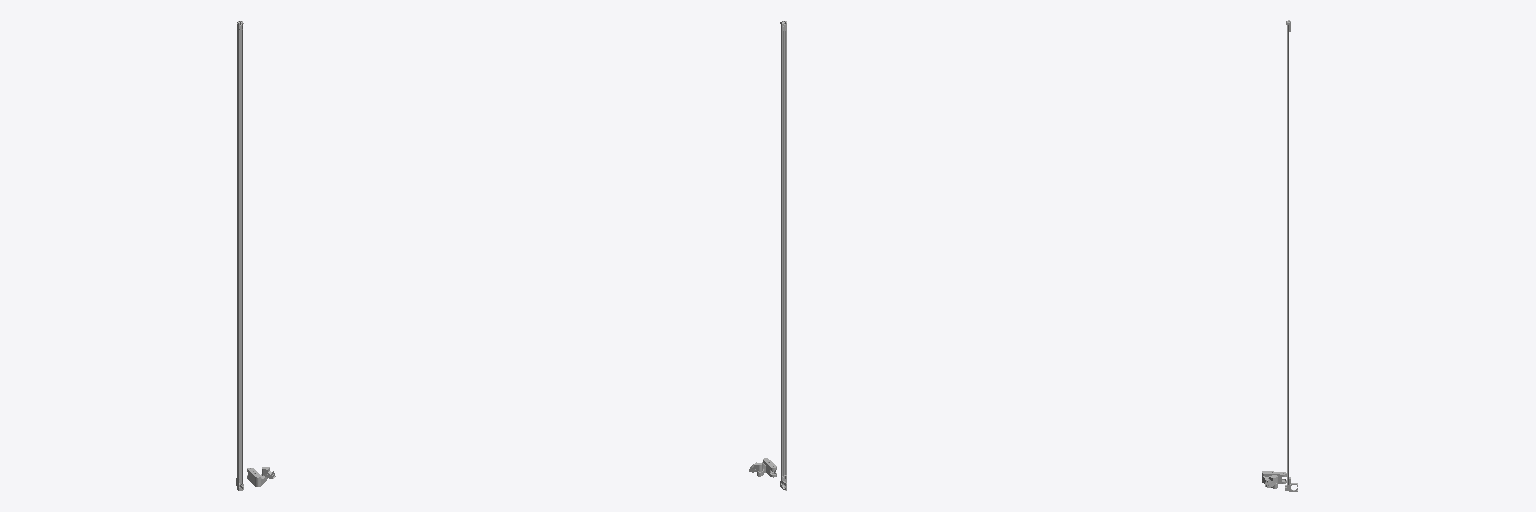
The robot description file, URDF, robot "ppr_urdf":
<?xml version="1.0" encoding="utf-8"?>
<!-- This URDF was automatically created by SolidWorks to URDF Exporter! Originally created by Stephen Brawner ([email redacted]) 
     Commit Version: 1.6.0-4-g7f85cfe  Build Version: 1.6.7995.38578
     For more information, please see http://wiki.ros.org/sw_urdf_exporter -->
<robot
  name="ppr_urdf">
  <link
    name="Fixed_Vertical_Rail">
    <inertial>
      <origin
        xyz="-0.0653652039224434 0.0346487927069754 1.58293633496328"
        rpy="0 0 0" />
      <mass
        value="1.36134490661131" />
      <inertia
        ixx="1.23113349395946"
        ixy="-3.02582471930478E-05"
        ixz="-1.60411948067779E-06"
        iyy="1.2311924579006"
        iyz="-2.04129879693702E-05"
        izz="0.00039546600300364" />
    </inertial>
    <visual>
      <origin
        xyz="0 0 0"
        rpy="0 0 0" />
      <geometry>
        <mesh
          filename="package://ppr_urdf/meshes/Fixed_Vertical_Rail.STL" />
      </geometry>
      <material
        name="">
        <color
          rgba="0.752941176470588 0.752941176470588 0.752941176470588 1" />
      </material>
    </visual>
    <collision>
      <origin
        xyz="0 0 0"
        rpy="0 0 0" />
      <geometry>
        <mesh
          filename="package://ppr_urdf/meshes/Fixed_Vertical_Rail.STL" />
      </geometry>
    </collision>
  </link>
  <link
    name="Arm_Base">
    <inertial>
      <origin
        xyz="-0.0723232974183641 -0.108852791163646 0.110380253511977"
        rpy="0 0 0" />
      <mass
        value="2.55348579407201" />
      <inertia
        ixx="0.00340893503817532"
        ixy="0.000118939658549301"
        ixz="-9.91618542470022E-06"
        iyy="0.00456708278833863"
        iyz="-1.31342859741288E-05"
        izz="0.00190057696475435" />
    </inertial>
    <visual>
      <origin
        xyz="0 0 0"
        rpy="0 0 0" />
      <geometry>
        <mesh
          filename="package://ppr_urdf/meshes/Arm_Base.STL" />
      </geometry>
      <material
        name="">
        <color
          rgba="0.752941176470588 0.752941176470588 0.752941176470588 1" />
      </material>
    </visual>
    <collision>
      <origin
        xyz="0 0 0"
        rpy="0 0 0" />
      <geometry>
        <mesh
          filename="package://ppr_urdf/meshes/Arm_Base.STL" />
      </geometry>
    </collision>
  </link>
  <joint
    name="Motor_1"
    type="prismatic">
    <origin
      xyz="-0.00599999999999973 0.103500000000001 0"
      rpy="0 0 0" />
    <parent
      link="Fixed_Vertical_Rail" />
    <child
      link="Arm_Base" />
    <axis
      xyz="0 0 1" />
    <limit
      lower="0"
      upper="3.251"
      effort="0"
      velocity="0" />
  </joint>
  <link
    name="First_Link">
    <inertial>
      <origin
        xyz="-0.00830989255160941 -0.0612529073186812 0.0412894159868319"
        rpy="0 0 0" />
      <mass
        value="0.39754180447117" />
      <inertia
        ixx="0.0010676169811411"
        ixy="-0.000125735491727204"
        ixz="5.13685153266351E-06"
        iyy="0.000182921549481065"
        iyz="6.27301860431454E-05"
        izz="0.00113842663671868" />
    </inertial>
    <visual>
      <origin
        xyz="0 0 0"
        rpy="0 0 0" />
      <geometry>
        <mesh
          filename="package://ppr_urdf/meshes/First_Link.STL" />
      </geometry>
      <material
        name="">
        <color
          rgba="0.752941176470588 0.752941176470588 0.752941176470588 1" />
      </material>
    </visual>
    <collision>
      <origin
        xyz="0 0 0"
        rpy="0 0 0" />
      <geometry>
        <mesh
          filename="package://ppr_urdf/meshes/First_Link.STL" />
      </geometry>
    </collision>
  </link>
  <joint
    name="Motor_2"
    type="revolute">
    <origin
      xyz="0.00599999999999971 -0.103500000000001 0.0590000000000115"
      rpy="0 0 0" />
    <parent
      link="Arm_Base" />
    <child
      link="First_Link" />
    <axis
      xyz="0 0 1" />
    <limit
      lower="0"
      upper="3.0986"
      effort="0"
      velocity="0" />
  </joint>
  <link
    name="Second_Link">
    <inertial>
      <origin
        xyz="0.036113 0.027642 0.027283"
        rpy="0 0 0" />
      <mass
        value="0.60727" />
      <inertia
        ixx="0.00034204"
        ixy="-0.00026976"
        ixz="1.8061E-05"
        iyy="0.00046144"
        iyz="1.1693E-05"
        izz="0.000744" />
    </inertial>
    <visual>
      <origin
        xyz="0 0 0"
        rpy="0 0 0" />
      <geometry>
        <mesh
          filename="package://ppr_urdf/meshes/Second_Link.STL" />
      </geometry>
      <material
        name="">
        <color
          rgba="0.75294 0.75294 0.75294 1" />
      </material>
    </visual>
    <collision>
      <origin
        xyz="0 0 0"
        rpy="0 0 0" />
      <geometry>
        <mesh
          filename="package://ppr_urdf/meshes/Second_Link.STL" />
      </geometry>
    </collision>
  </link>
  <joint
    name="Motor_3"
    type="revolute">
    <origin
      xyz="-0.015509 -0.13612 0"
      rpy="0 0 0" />
    <parent
      link="First_Link" />
    <child
      link="Second_Link" />
    <axis
      xyz="0 0 1" />
    <limit
      lower="-2.3562"
      upper="0"
      effort="0"
      velocity="0" />
  </joint>
  <link
    name="Gripper">
    <inertial>
      <origin
        xyz="0.014864 -0.019392 0.051985"
        rpy="0 0 0" />
      <mass
        value="0.072883" />
      <inertia
        ixx="5.611E-05"
        ixy="1.8401E-05"
        ixz="6.0106E-06"
        iyy="4.6306E-05"
        iyz="-7.8438E-06"
        izz="6.9227E-05" />
    </inertial>
    <visual>
      <origin
        xyz="0 0 0"
        rpy="0 0 0" />
      <geometry>
        <mesh
          filename="package://ppr_urdf/meshes/Gripper.STL" />
      </geometry>
      <material
        name="">
        <color
          rgba="0.75294 0.75294 0.75294 1" />
      </material>
    </visual>
    <collision>
      <origin
        xyz="0 0 0"
        rpy="0 0 0" />
      <geometry>
        <mesh
          filename="package://ppr_urdf/meshes/Gripper.STL" />
      </geometry>
    </collision>
  </link>
  <joint
    name="Motor_4"
    type="revolute">
    <origin
      xyz="0.095996 0.07366 0"
      rpy="0 0 0" />
    <parent
      link="Second_Link" />
    <child
      link="Gripper" />
    <axis
      xyz="0 0 1" />
    <limit
      lower="0"
      upper="3.4207"
      effort="0"
      velocity="0" />
  </joint>
</robot>

--- What the picture shows (computed from the rendered views, not written in the file) ---
3 views of the same robot in one strip: view 1: azimuth 30°, elevation 25°; view 2: azimuth 210°, elevation 25°; view 3: azimuth 270°, elevation 25° (orthographic).
Model ppr_urdf with 5 links and 4 joints (3 revolute, 1 prismatic), rooted at Fixed_Vertical_Rail, posed every joint at zero.
Links seen in each view (by area): view 1: Fixed_Vertical_Rail; view 2: Fixed_Vertical_Rail; view 3: Fixed_Vertical_Rail.
Boxes of the visible links, left/top/right/bottom form: Fixed_Vertical_Rail: left=236, top=21, right=243, bottom=490; Fixed_Vertical_Rail: left=780, top=21, right=786, bottom=490; Fixed_Vertical_Rail: left=1285, top=20, right=1297, bottom=491.
Bounding box of the posed robot: 0.2326 × 0.2663 × 3.74 m (x, y, z).
4 mesh visuals loaded from 5 distinct referenced files (4 binary STL); not drawn: 1 (reference not matched to a file when rendering).
